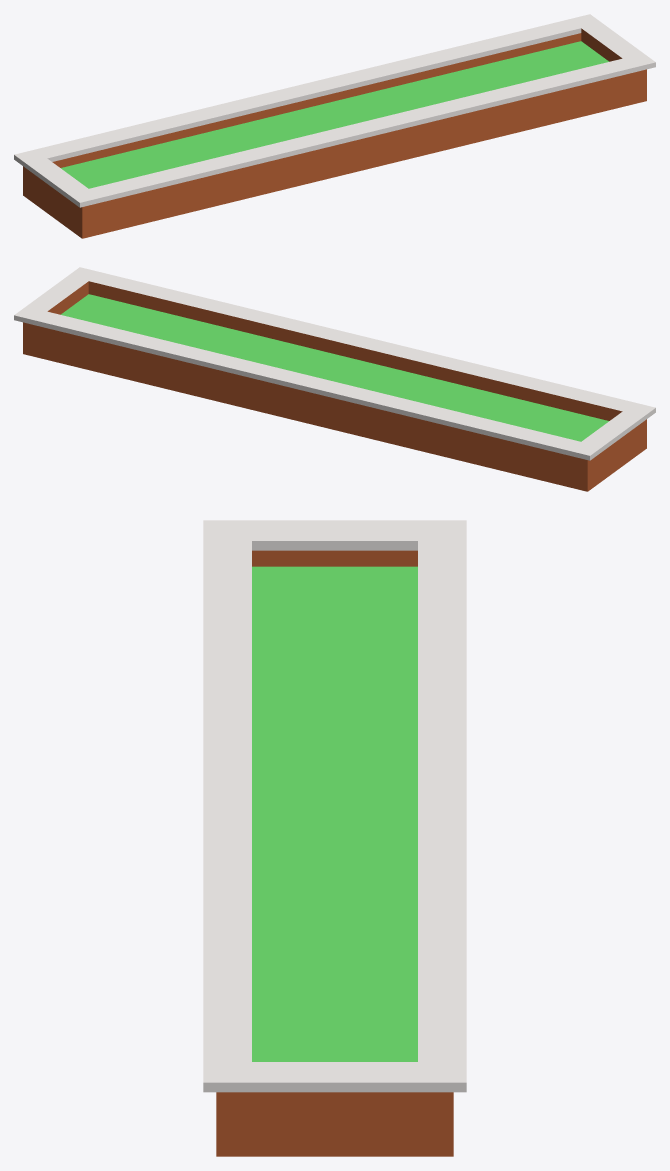
File: planter.fbx
3 renders of one model, top to bottom at view 1: azimuth 30°, elevation 25°; view 2: azimuth 150°, elevation 25°; view 3: azimuth 270°, elevation 25°, orthographic. The views are drawn at different scales.
Parts seen in each view (by area): view 1: Planter; view 2: Planter; view 3: Planter.
Boxes of the visible parts, x1,y1,x2,y2 form: Planter: [14, 14, 655, 238]; Planter: [14, 267, 655, 491]; Planter: [203, 520, 466, 1156].
Size of the model in its own units: 1122 by 74.01 by 222.
